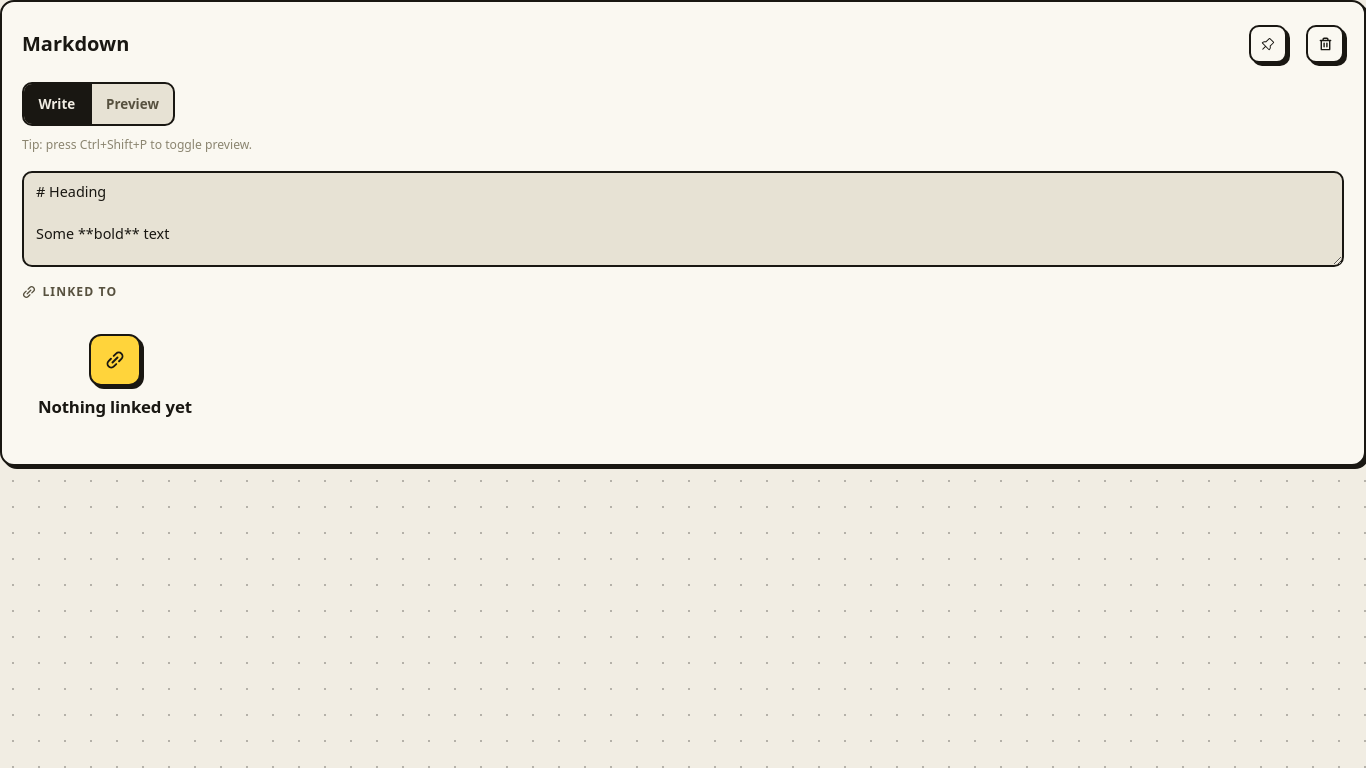
Test case: NoteEditor › renders a markdown preview
Click the button "Preview". click: (131, 104)
box: [90,84,173,124]
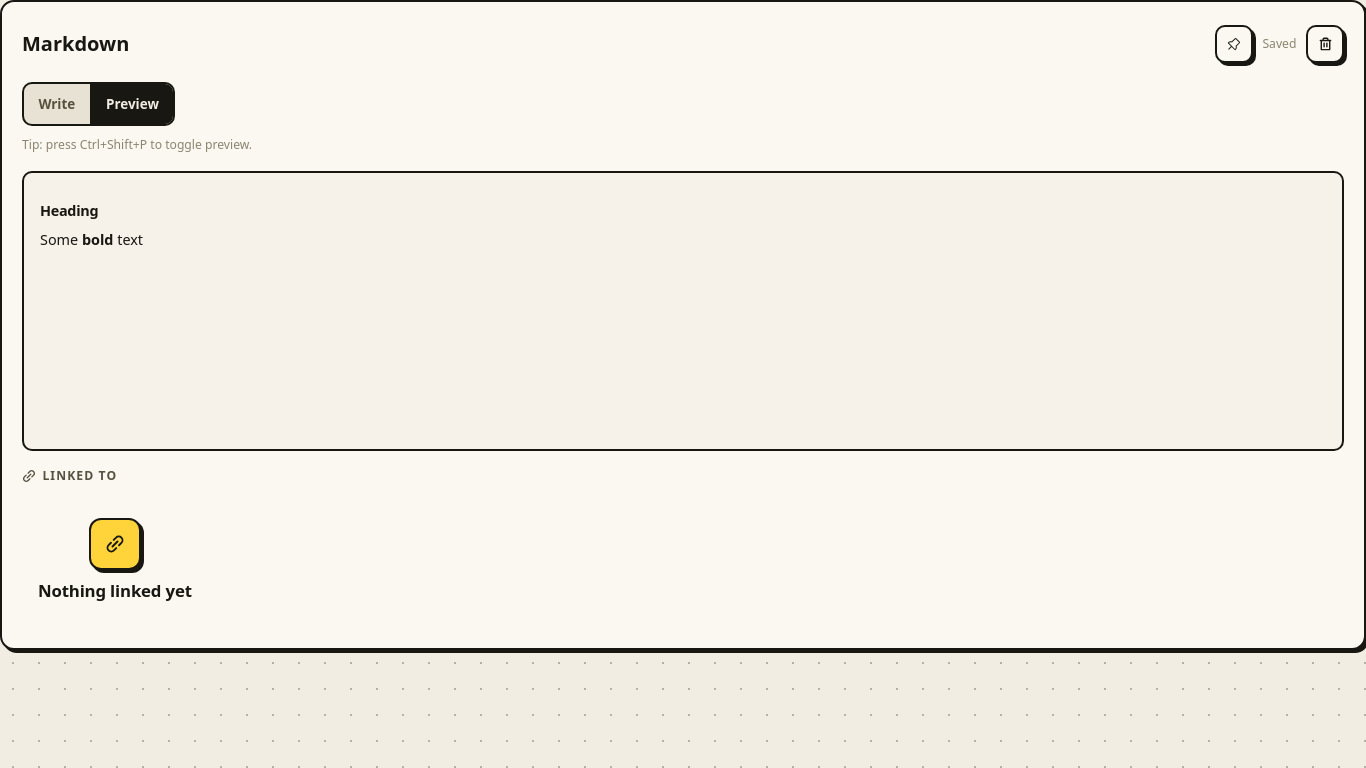
Expected: the heading "Heading" is shown, [40,201,98,220]
